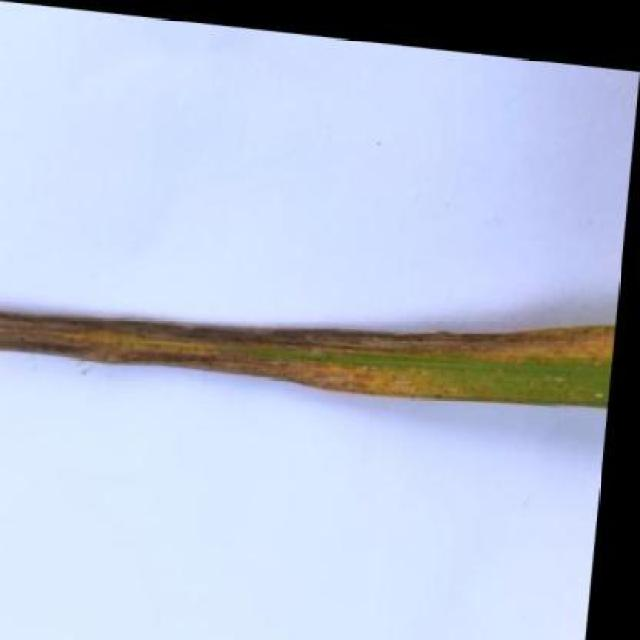Rice False Smut: (0, 243, 622, 408)
